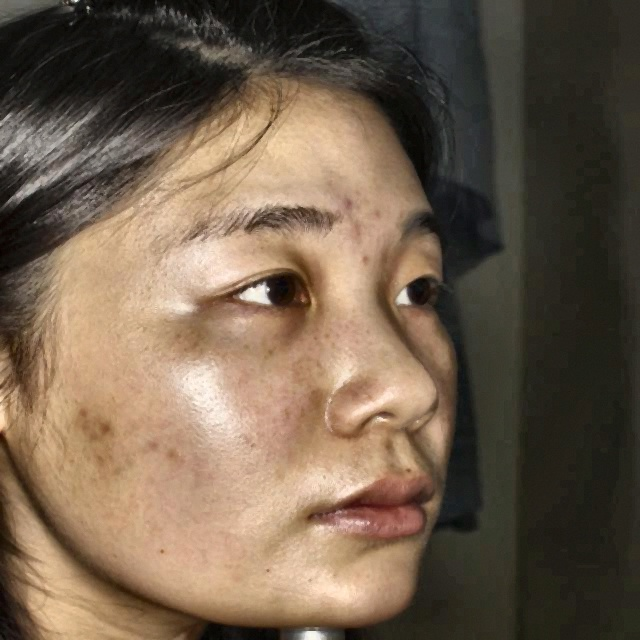comedone: (97, 413, 129, 447), (76, 387, 100, 427), (345, 219, 365, 245), (335, 191, 356, 215), (367, 204, 384, 231)
